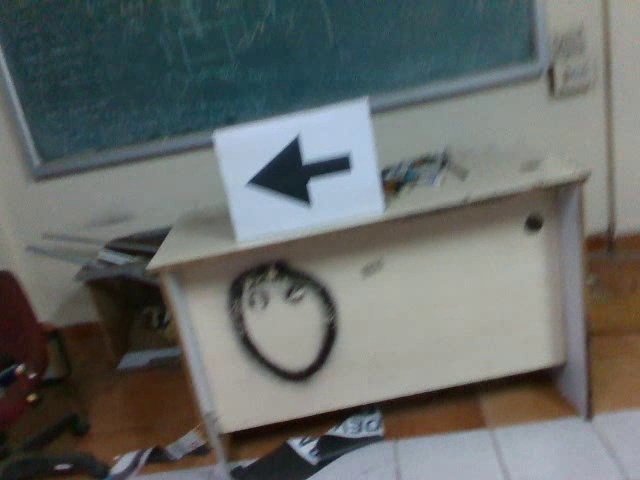Left: (237, 131, 357, 209)
